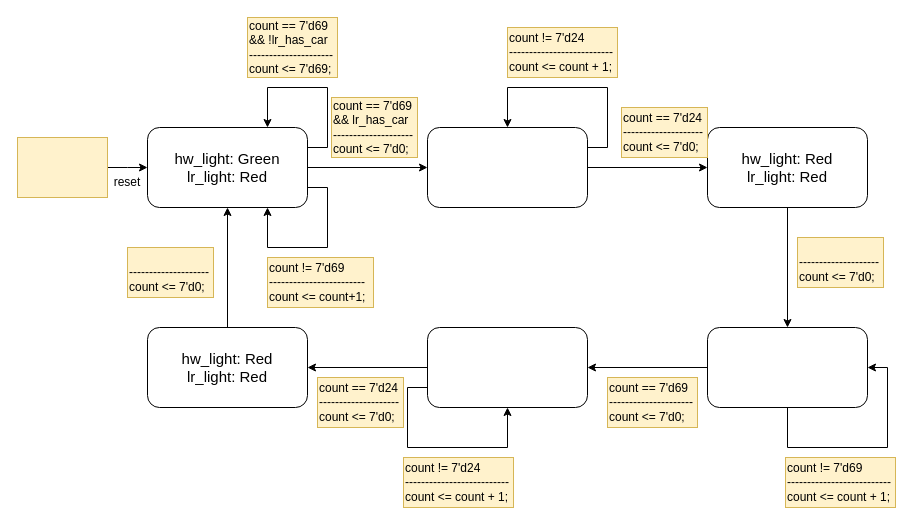
Some shapes in this 913 by 525 pixel diagram are drawn without their labels. The box of each missing label's shape, as (x1, y1, x2, y2) in pixels:
hw_light: Red lr_light: Green: (706, 326, 868, 408)
hw_light: Red lr_light: Yellow: (426, 326, 588, 408)
hw_light: Yellow lr_light: Red: (426, 126, 588, 208)
state: A; hw_light: Green; lr_light: Red; count: 7'd0;: (16, 136, 108, 198)
